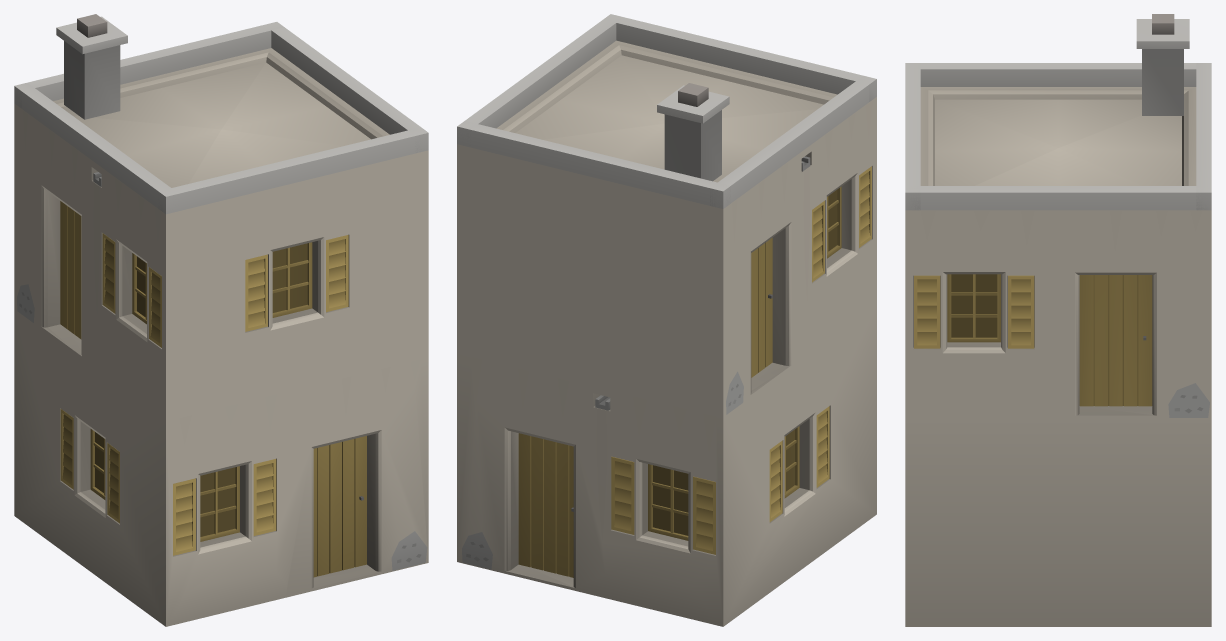
3 renders of one model, left to right at view 1: azimuth 30°, elevation 25°; view 2: azimuth 150°, elevation 25°; view 3: azimuth 270°, elevation 25°, orthographic.
Parts seen in each view (by area): view 1: cube2c; view 2: cube2c; view 3: cube2c.
Part boxes in pixels (x1,y1,x2,y2): cube2c: (14, 14, 428, 626); cube2c: (457, 14, 876, 626); cube2c: (905, 14, 1211, 626).
Bounding box in the file's own units: 4.4 × 8 × 4.4.
